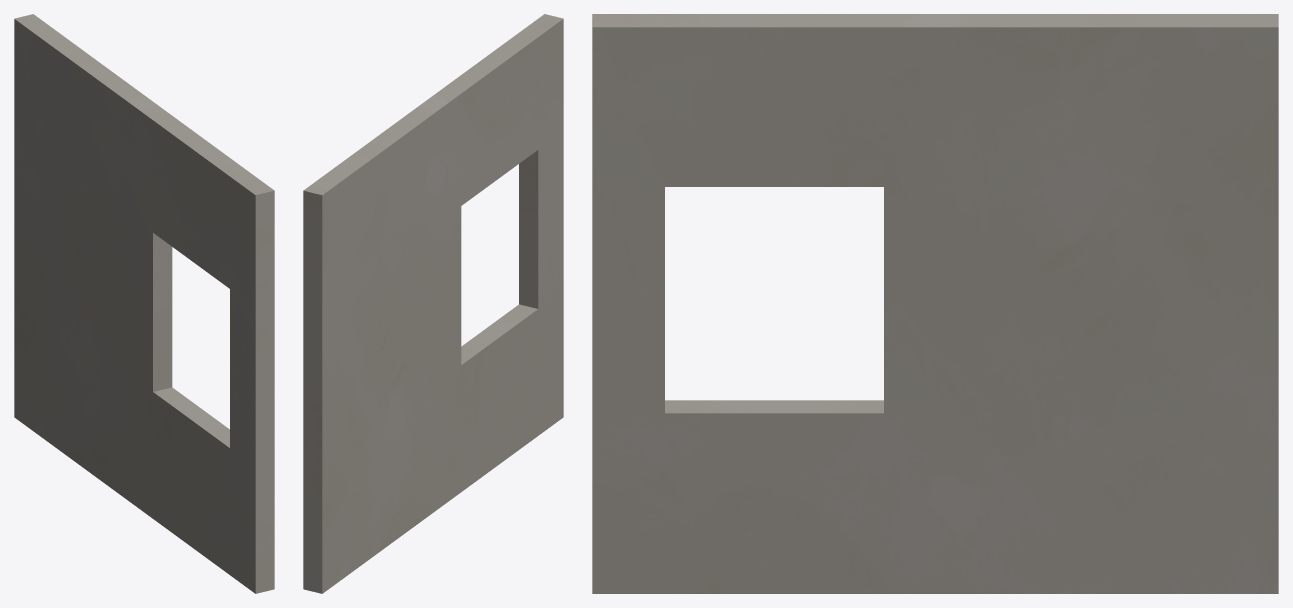
The model's file is SM_Wall_Window.fbx.
3 views of the same model, side by side, from view 1: azimuth 30°, elevation 25°; view 2: azimuth 150°, elevation 25°; view 3: azimuth 270°, elevation 25° (orthographic). The views are drawn at different scales.
Visible parts, largest first — view 1: SM_Wall_Windoww; view 2: SM_Wall_Windoww; view 3: SM_Wall_Windoww.
Boxes of the visible parts, bbox=[...] form: SM_Wall_Windoww: bbox=[14, 14, 274, 593]; SM_Wall_Windoww: bbox=[303, 14, 563, 593]; SM_Wall_Windoww: bbox=[592, 14, 1278, 593].
Size of the model in its own units: 38.11 by 758 by 832.
